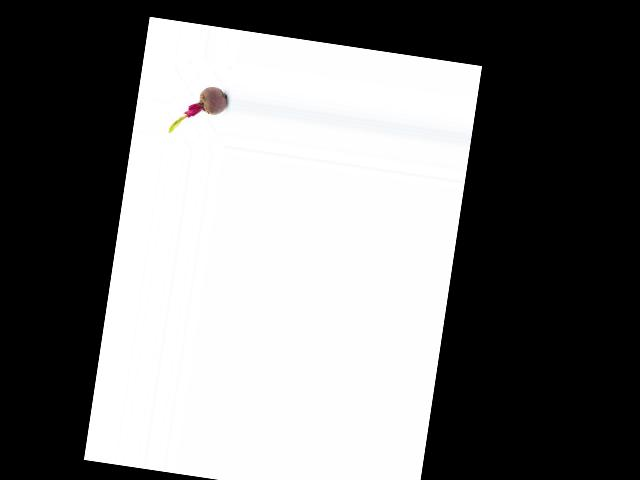beet: (169, 80, 228, 139)
